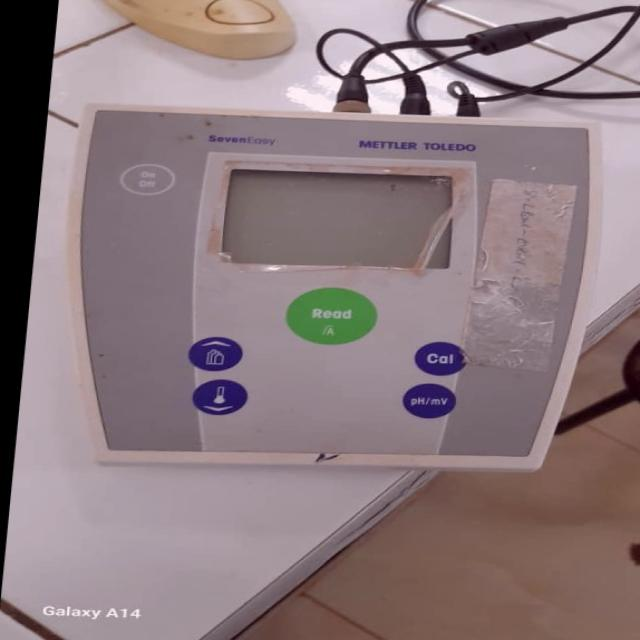PH meter: (45, 103, 597, 485)
